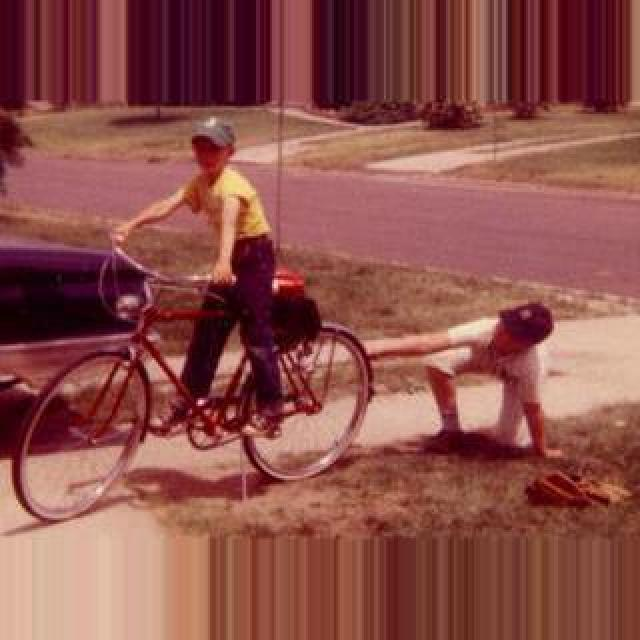MC-Bike: (118, 120, 298, 428), (428, 302, 558, 458)
Person: (16, 268, 374, 512)
